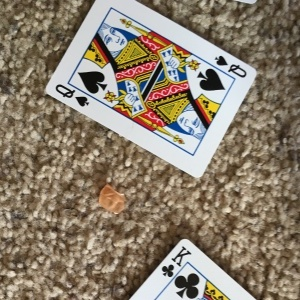card: (43, 1, 257, 178)
